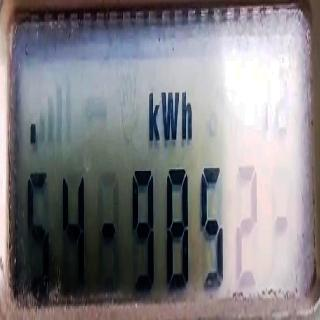-: (99, 219, 117, 242), (28, 117, 36, 146)
2: (233, 160, 262, 294)
4: (60, 168, 91, 290)
5: (198, 159, 227, 295), (24, 165, 54, 295)
8: (163, 158, 191, 296)
9: (129, 163, 157, 299)
